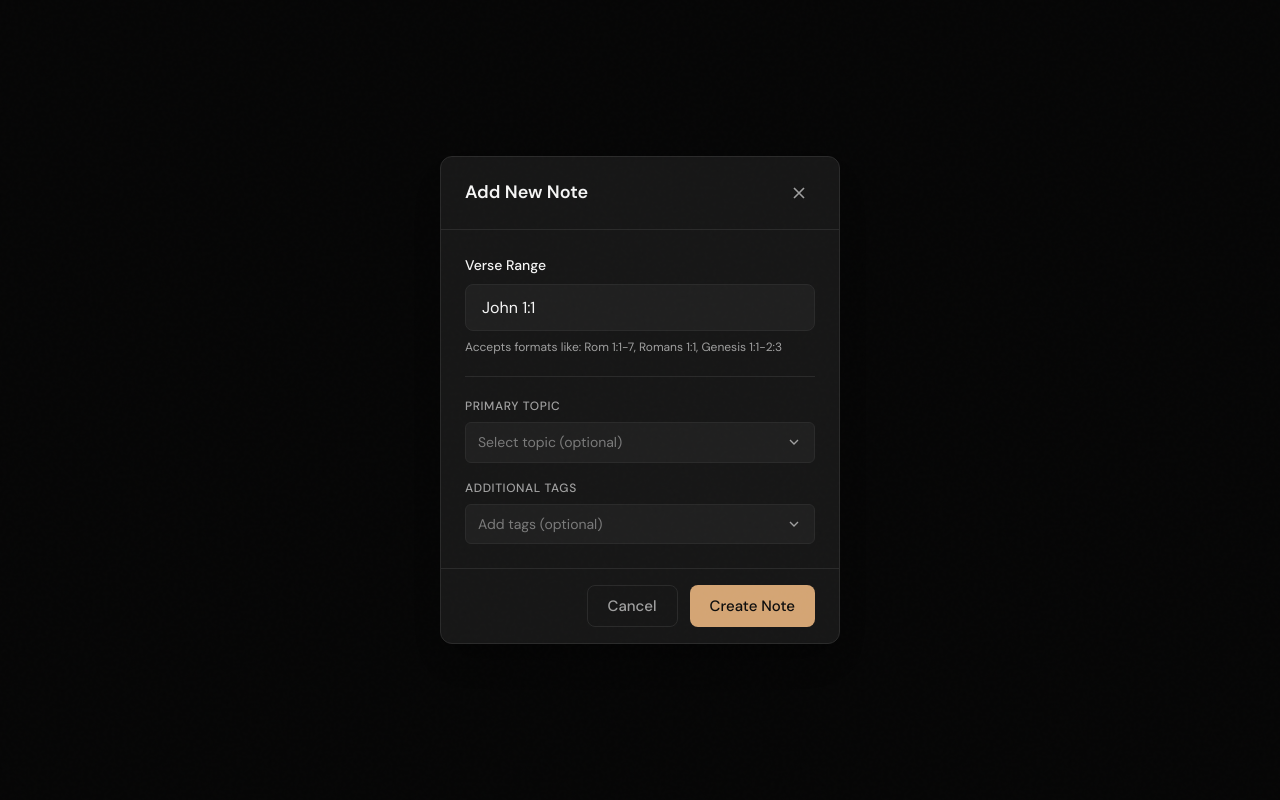
Scenario: AddNoteModal › validation › shows error for invalid reference
Replace the text in the field with placeholder "e.g., Romans 1:1-7" with "invalid reference": (640, 308) x1=465 y1=284 x2=815 y2=331
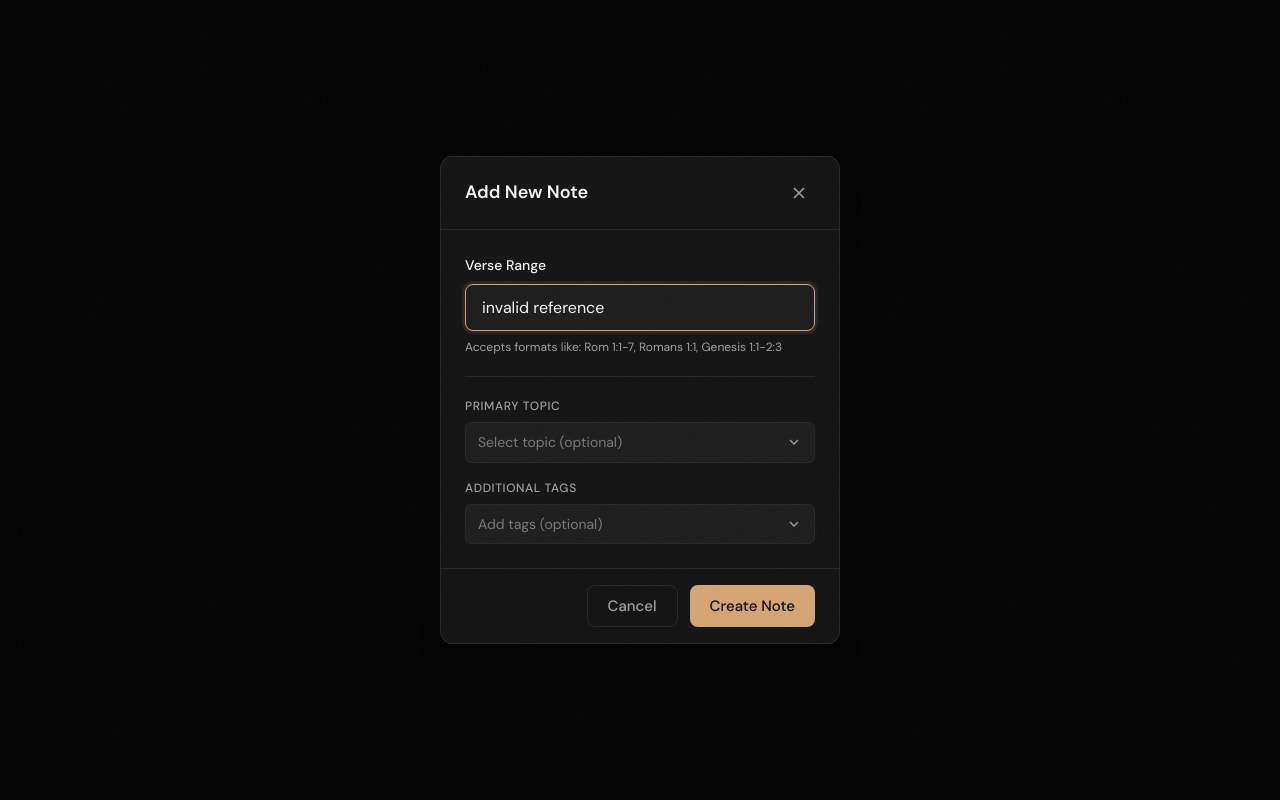
Click the button "Create Note": (752, 606) x1=690 y1=585 x2=815 y2=627
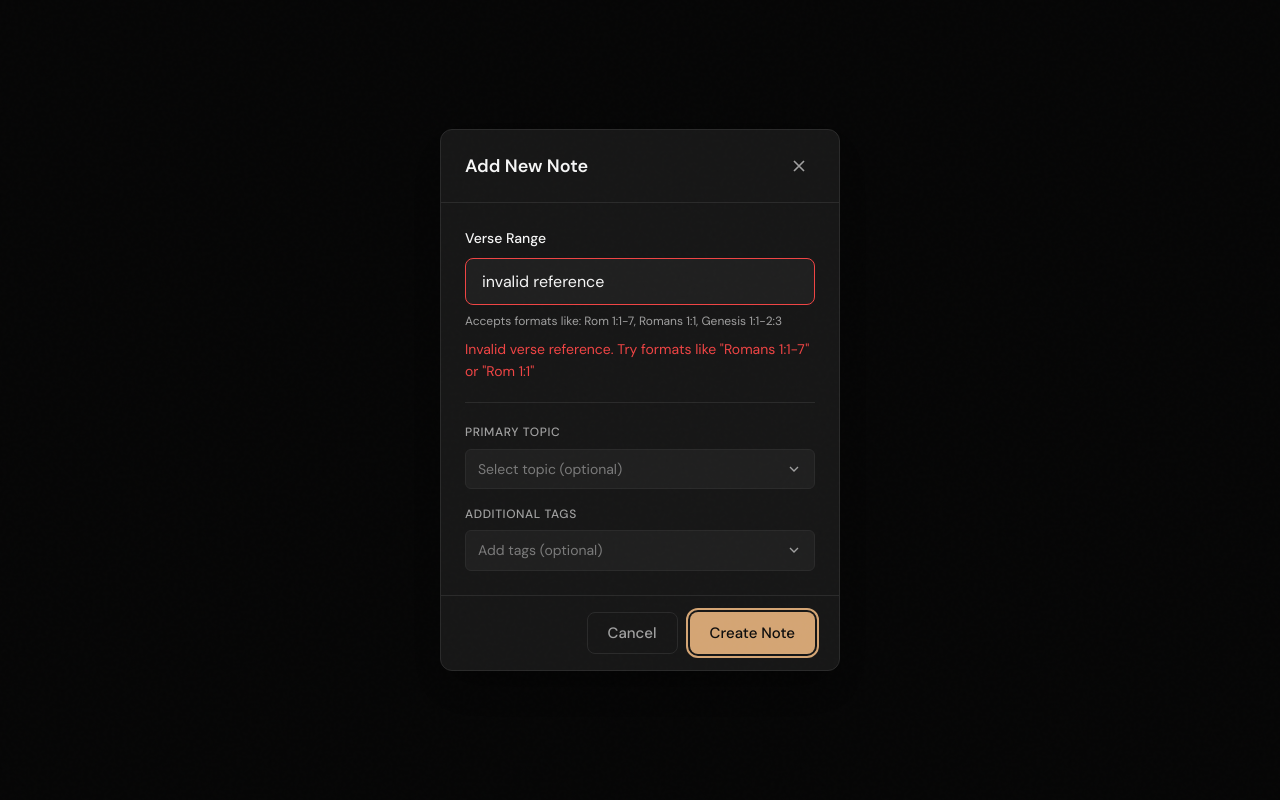
Result: the text "Invalid verse reference" is shown at x1=465 y1=340 x2=809 y2=380
